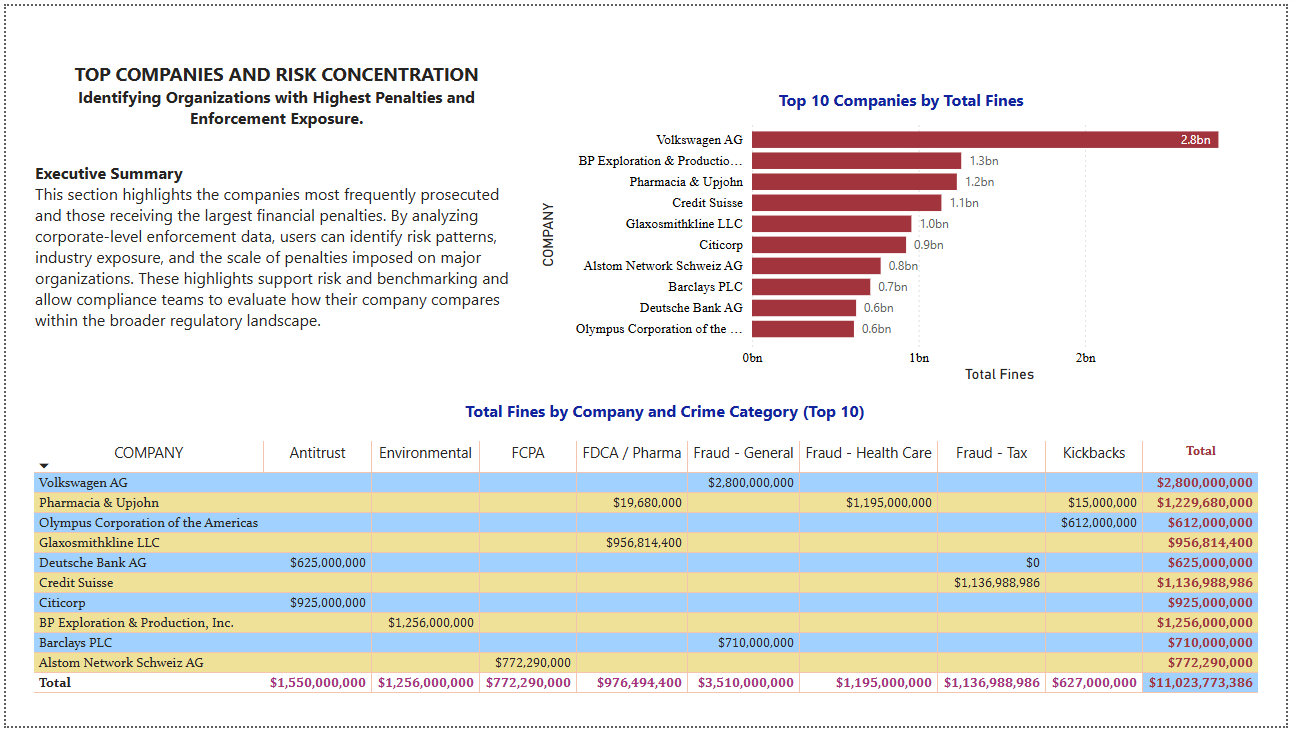

This screenshot's page, from the dashboard's own definition file:
{"tool":"powerbi","page":{"name":"Page 3: Company Risk Exposure","canvas":[1280,720],"ordinal":2},"visuals":[{"type":"clusteredBarChart","title":"Top 10 Companies by Total Fines","fields":{"Category":["cpr-data.COMPANY"],"Y":["cpr-data.Total Fines"]},"box":[530.1,82.7,729.5,297.6],"z":0},{"type":"textbox","box":[24.3,49.6,493.1,310.3],"z":1000},{"type":"pivotTable","fields":{"Rows":["cpr-data.COMPANY"],"Columns":["cpr-data.CRIME NAME"],"Values":["cpr-data.Total Fines"]},"box":[24.3,430.9,1242.1,272.3],"z":2000},{"type":"textbox","box":[307.4,389.1,703.2,41.8],"z":3000}]}

Visuals, with their boxes in screenshot pixels (x1, y1, x2, y2), scaled from the page's 1280x720 canvas onto the 1294x735 screenshot:
"Top 10 Companies by Total Fines" clusteredBarChart: x1=536 y1=84 x2=1273 y2=388
textbox: x1=25 y1=51 x2=523 y2=367
pivotTable - cpr-data.COMPANY x cpr-data.CRIME NAME: x1=25 y1=440 x2=1280 y2=718
textbox: x1=311 y1=397 x2=1022 y2=440
